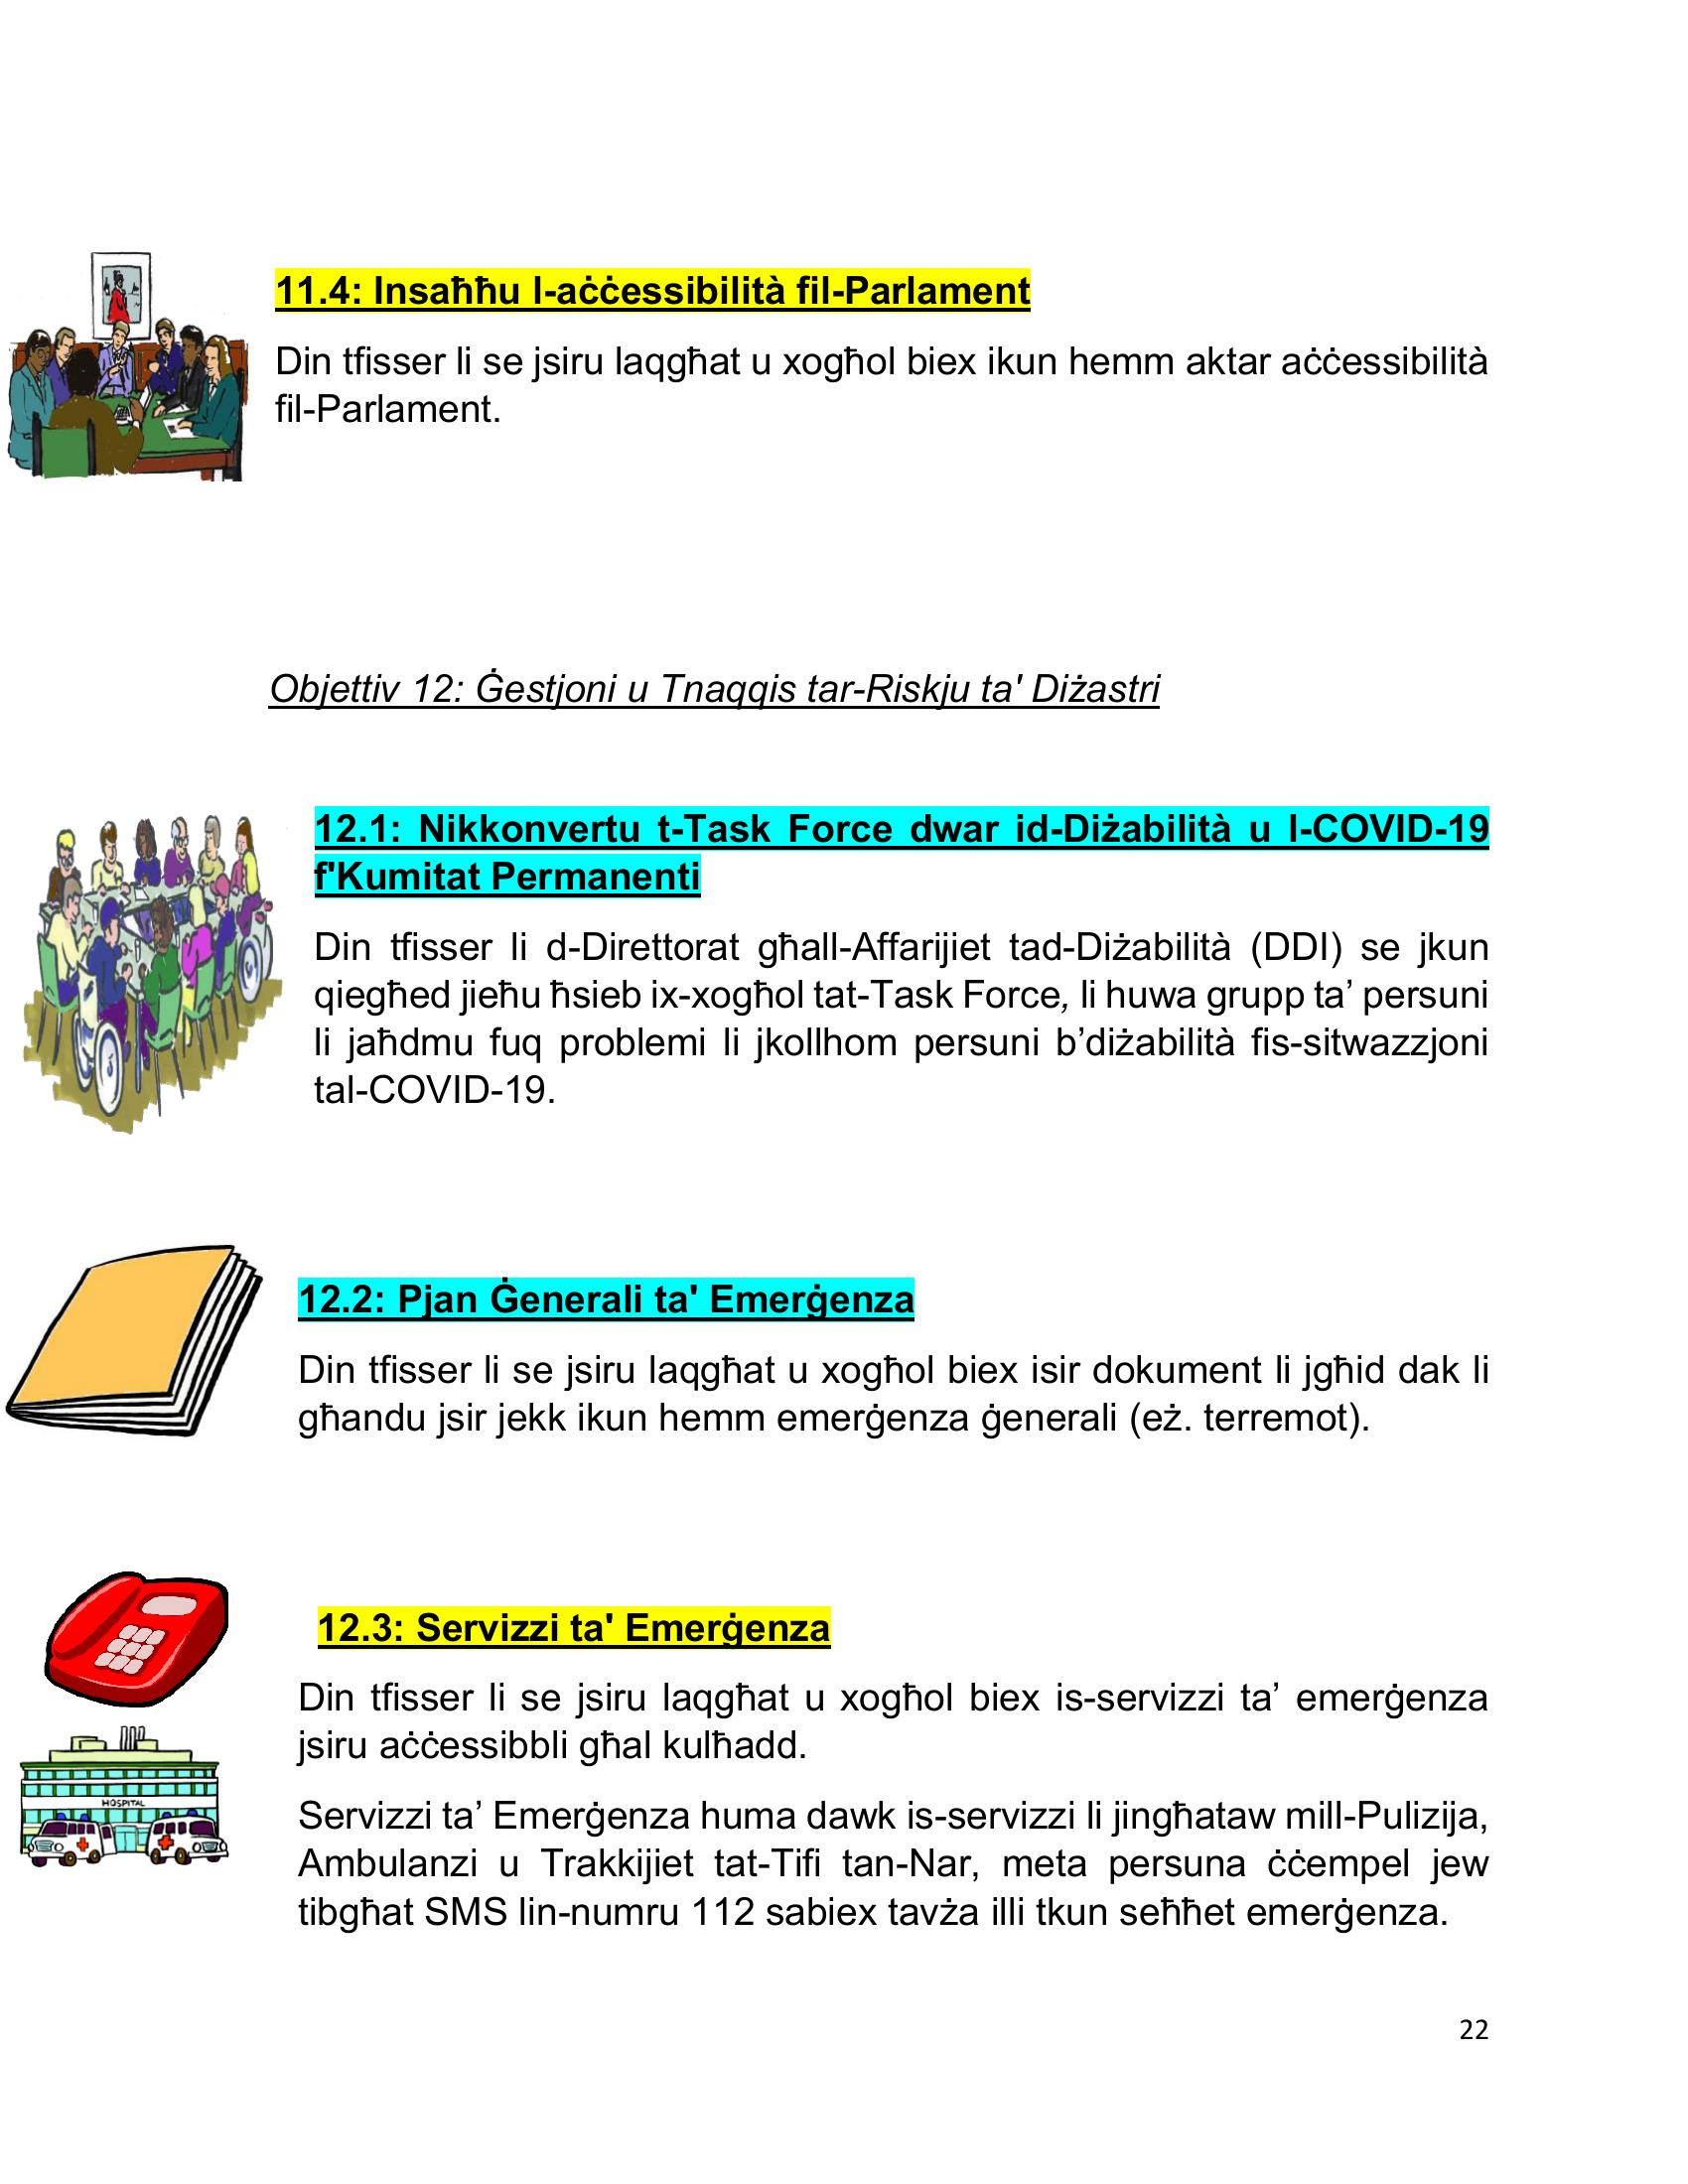text: (277, 776, 1528, 1957), (261, 248, 1550, 746)
whiteout: (2, 801, 293, 1156)
